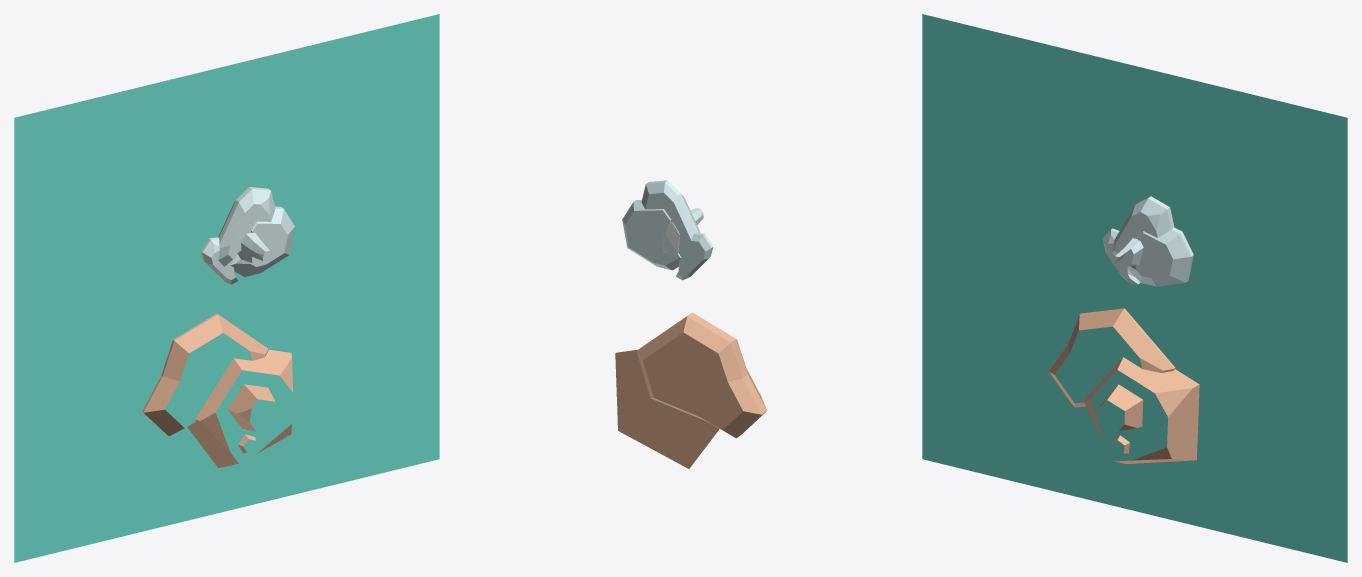
Rendered from rocks.gltf.
3 renders of one model, left to right at view 1: azimuth 30°, elevation 25°; view 2: azimuth 150°, elevation 25°; view 3: azimuth 330°, elevation 25°, orthographic.
Visible parts, largest first — view 1: ground_grass, rock_smallTopB, rock_largeE, stone_largeA.001, stone_largeC, stone_largeA, stone_tallD; view 2: rock_largeE, rock_smallTopB, stone_largeC, stone_largeA.001, stone_largeA; view 3: ground_grass, rock_smallTopB, rock_largeE, stone_largeC, stone_largeA.001, stone_tallD, stone_largeA.
Part boxes in pixels (left/top/right/bottom): ground_grass: left=14, top=14, right=439, bottom=562; rock_smallTopB: left=187, top=349, right=292, bottom=468; rock_largeE: left=142, top=313, right=268, bottom=436; stone_largeA.001: left=218, top=187, right=275, bottom=266; stone_largeC: left=230, top=206, right=294, bottom=276; stone_largeA: left=200, top=237, right=237, bottom=284; stone_tallD: left=237, top=232, right=269, bottom=262; rock_largeE: left=636, top=312, right=766, bottom=438; rock_smallTopB: left=615, top=349, right=719, bottom=468; stone_largeC: left=622, top=200, right=681, bottom=270; stone_largeA.001: left=641, top=180, right=699, bottom=255; stone_largeA: left=676, top=233, right=713, bottom=280; ground_grass: left=922, top=14, right=1347, bottom=562; rock_smallTopB: left=1084, top=357, right=1199, bottom=463; rock_largeE: left=1049, top=308, right=1175, bottom=407; stone_largeC: left=1127, top=227, right=1193, bottom=286; stone_largeA.001: left=1112, top=196, right=1174, bottom=261; stone_tallD: left=1112, top=238, right=1143, bottom=266; stone_largeA: left=1102, top=228, right=1140, bottom=284.
Bounding box in the file's own units: 21.18 × 21.18 × 3.4.
